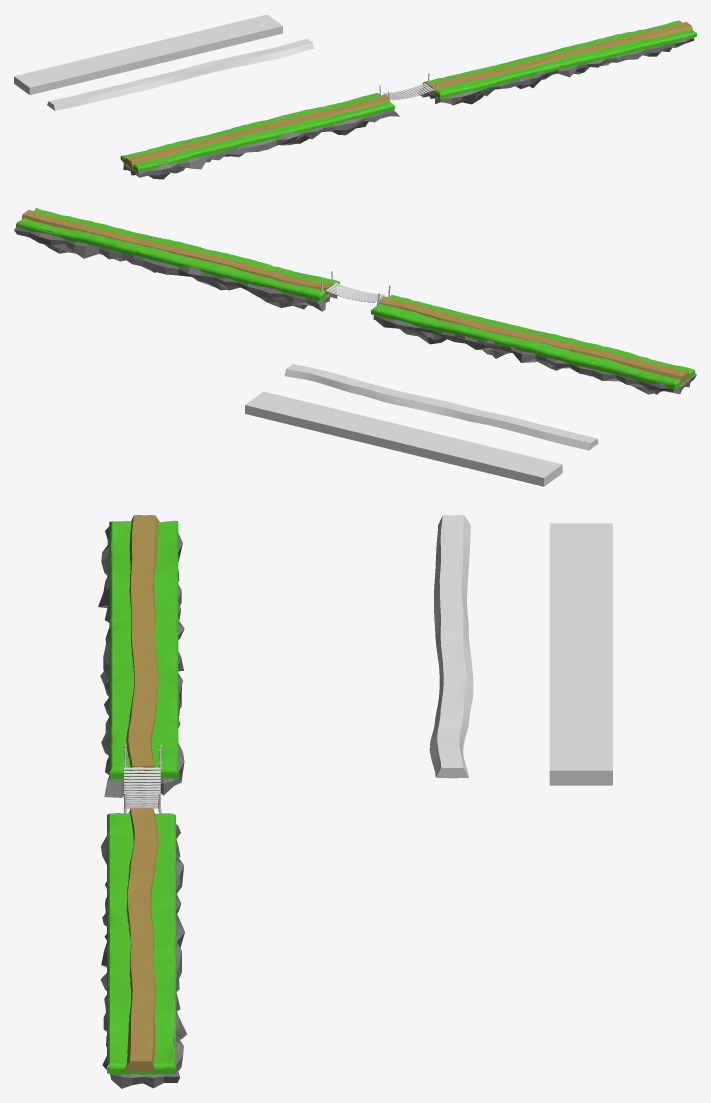
The model's file is Bridge_01.fbx.
3 renders of one model, top to bottom at view 1: azimuth 30°, elevation 25°; view 2: azimuth 150°, elevation 25°; view 3: azimuth 270°, elevation 25°, orthographic. The views are drawn at different scales.
Parts seen in each view (by area): view 1: Box002, Box003, Box007, Box005, Box001, Box006, Box008, Box004; view 2: Box002, Box003, Box007, Box005, Box006, Box001, Box004, Box008; view 3: Box002, Box007, Box003, Box005, Box008, Box004, Box001, Box006.
Boxes of the visible parts, x1=… form: Box002: x1=14, y1=14, x2=282, y2=94; Box003: x1=120, y1=93, x2=394, y2=172; Box007: x1=422, y1=20, x2=696, y2=98; Box005: x1=47, y1=38, x2=313, y2=110; Box001: x1=123, y1=110, x2=399, y2=179; Box006: x1=418, y1=26, x2=694, y2=105; Box008: x1=427, y1=22, x2=692, y2=92; Box004: x1=124, y1=94, x2=390, y2=167; Box002: x1=245, y1=391, x2=562, y2=486; Box003: x1=371, y1=294, x2=694, y2=388; Box007: x1=16, y1=208, x2=339, y2=301; Box005: x1=284, y1=364, x2=598, y2=450; Box006: x1=14, y1=225, x2=337, y2=311; Box001: x1=373, y1=315, x2=696, y2=394; Box004: x1=377, y1=296, x2=689, y2=383; Box008: x1=21, y1=210, x2=333, y2=293; Box002: x1=549, y1=523, x2=612, y2=785; Box007: x1=107, y1=813, x2=175, y2=1074; Box003: x1=109, y1=520, x2=178, y2=779; Box005: x1=429, y1=515, x2=473, y2=778; Box008: x1=123, y1=807, x2=158, y2=1071; Box004: x1=126, y1=515, x2=159, y2=773; Box001: x1=98, y1=526, x2=184, y2=797; Box006: x1=100, y1=824, x2=186, y2=1088.
Size of the model in its own units: 1155 by 73.68 by 459.
